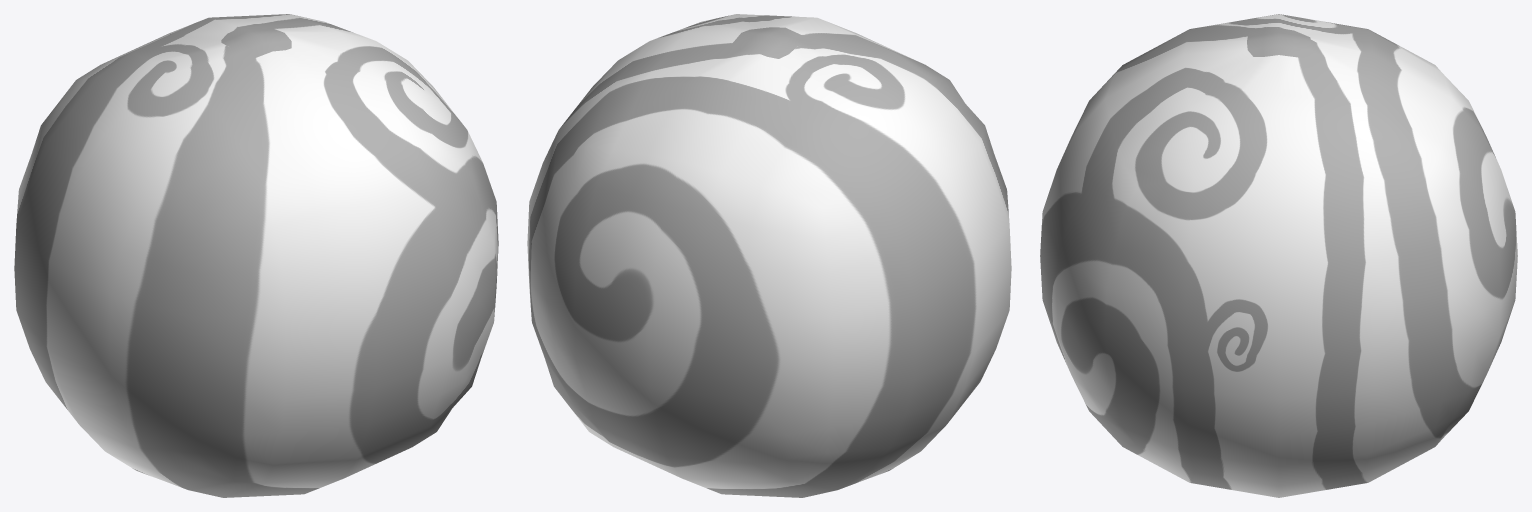
File: memory.fbx
3 renders of one model, left to right at view 1: azimuth 30°, elevation 25°; view 2: azimuth 150°, elevation 25°; view 3: azimuth 270°, elevation 25°, orthographic.
Parts seen in each view (by area): view 1: Cube; view 2: Cube; view 3: Cube.
Boxes of the visible parts, x1=… form: Cube: x1=14, y1=14, x2=498, y2=497; Cube: x1=527, y1=14, x2=1011, y2=497; Cube: x1=1040, y1=14, x2=1517, y2=497.
Size of the model in its own units: 168 by 170 by 168.
Materials: 1 (1 with a texture image).
